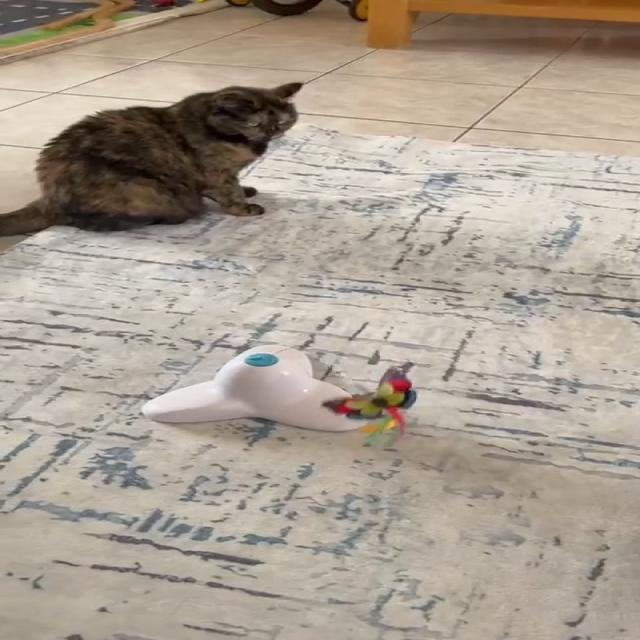authorized: (0, 81, 303, 236)
